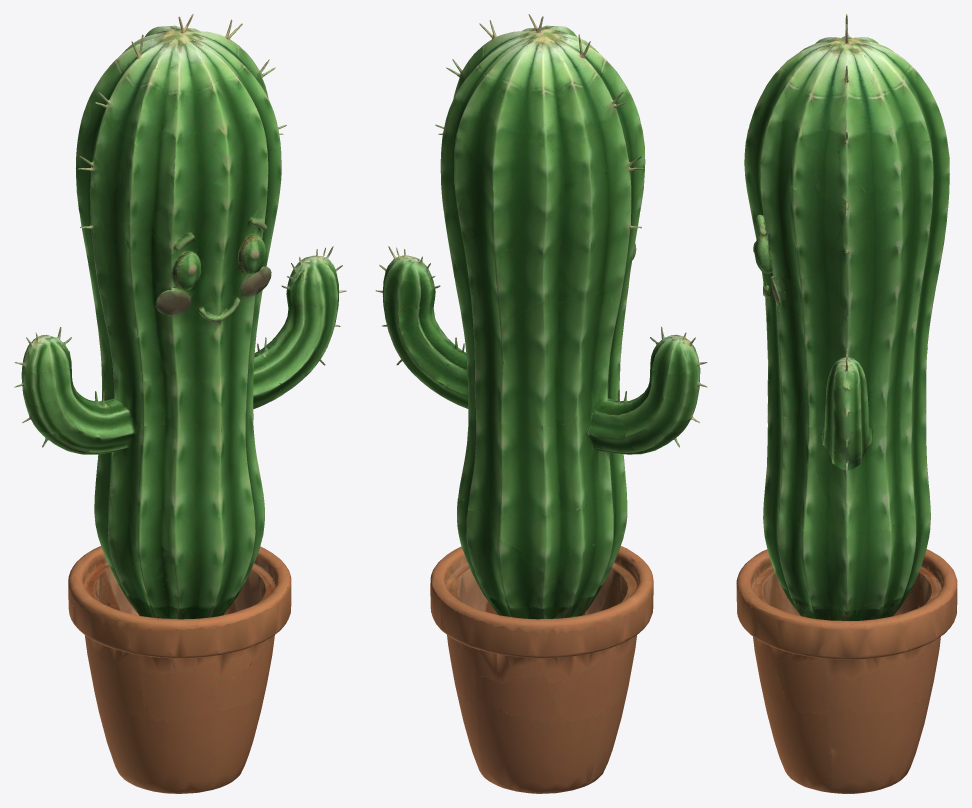
The model's file is cactus.glb.
3 renders of one model, left to right at view 1: azimuth 30°, elevation 25°; view 2: azimuth 150°, elevation 25°; view 3: azimuth 270°, elevation 25°, orthographic.
Parts seen in each view (by area): view 1: Mesh_0; view 2: Mesh_0; view 3: Mesh_0.
Boxes of the visible parts, x1,y1,x2,y2 form: Mesh_0: (14, 14, 346, 793); Mesh_0: (375, 14, 707, 793); Mesh_0: (736, 14, 957, 793).
Bounding box in the file's own units: 0.8705 × 1.9 × 0.5069.
1 material, 1 textured.
